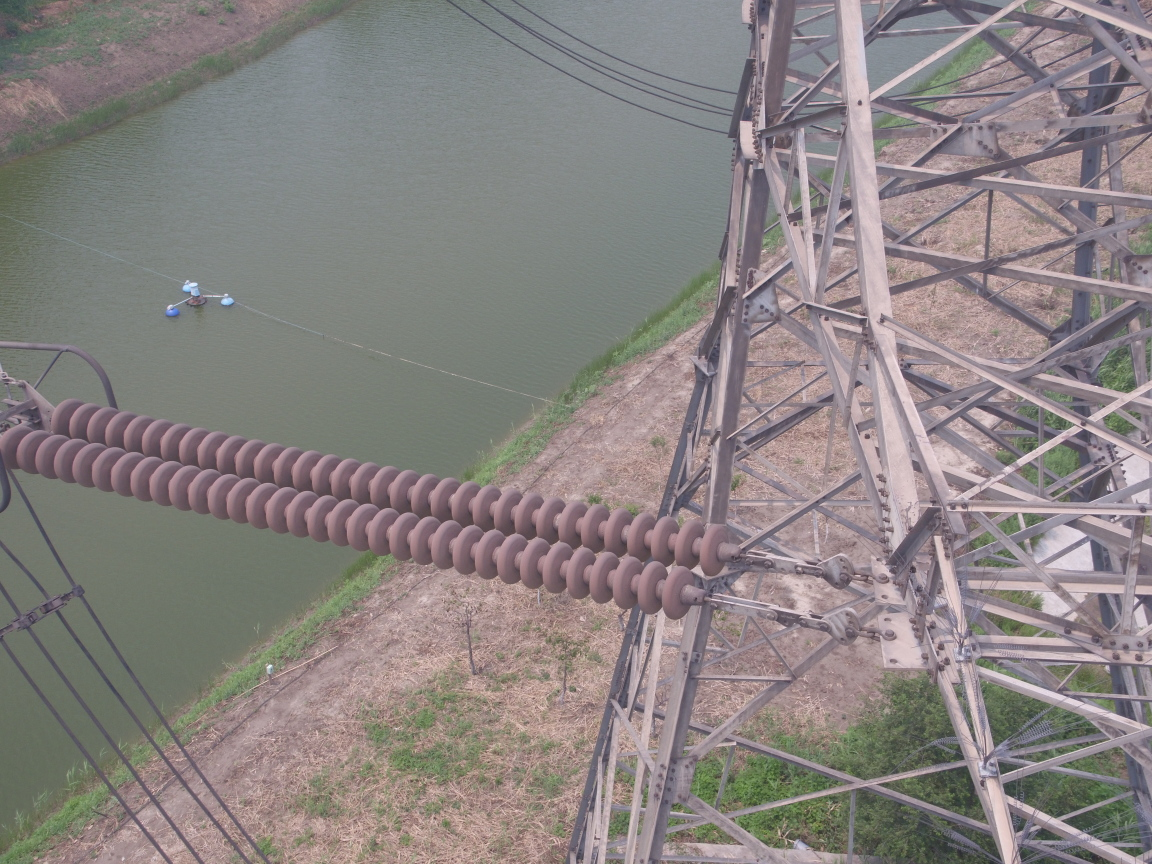insulator: (1, 393, 812, 628)
